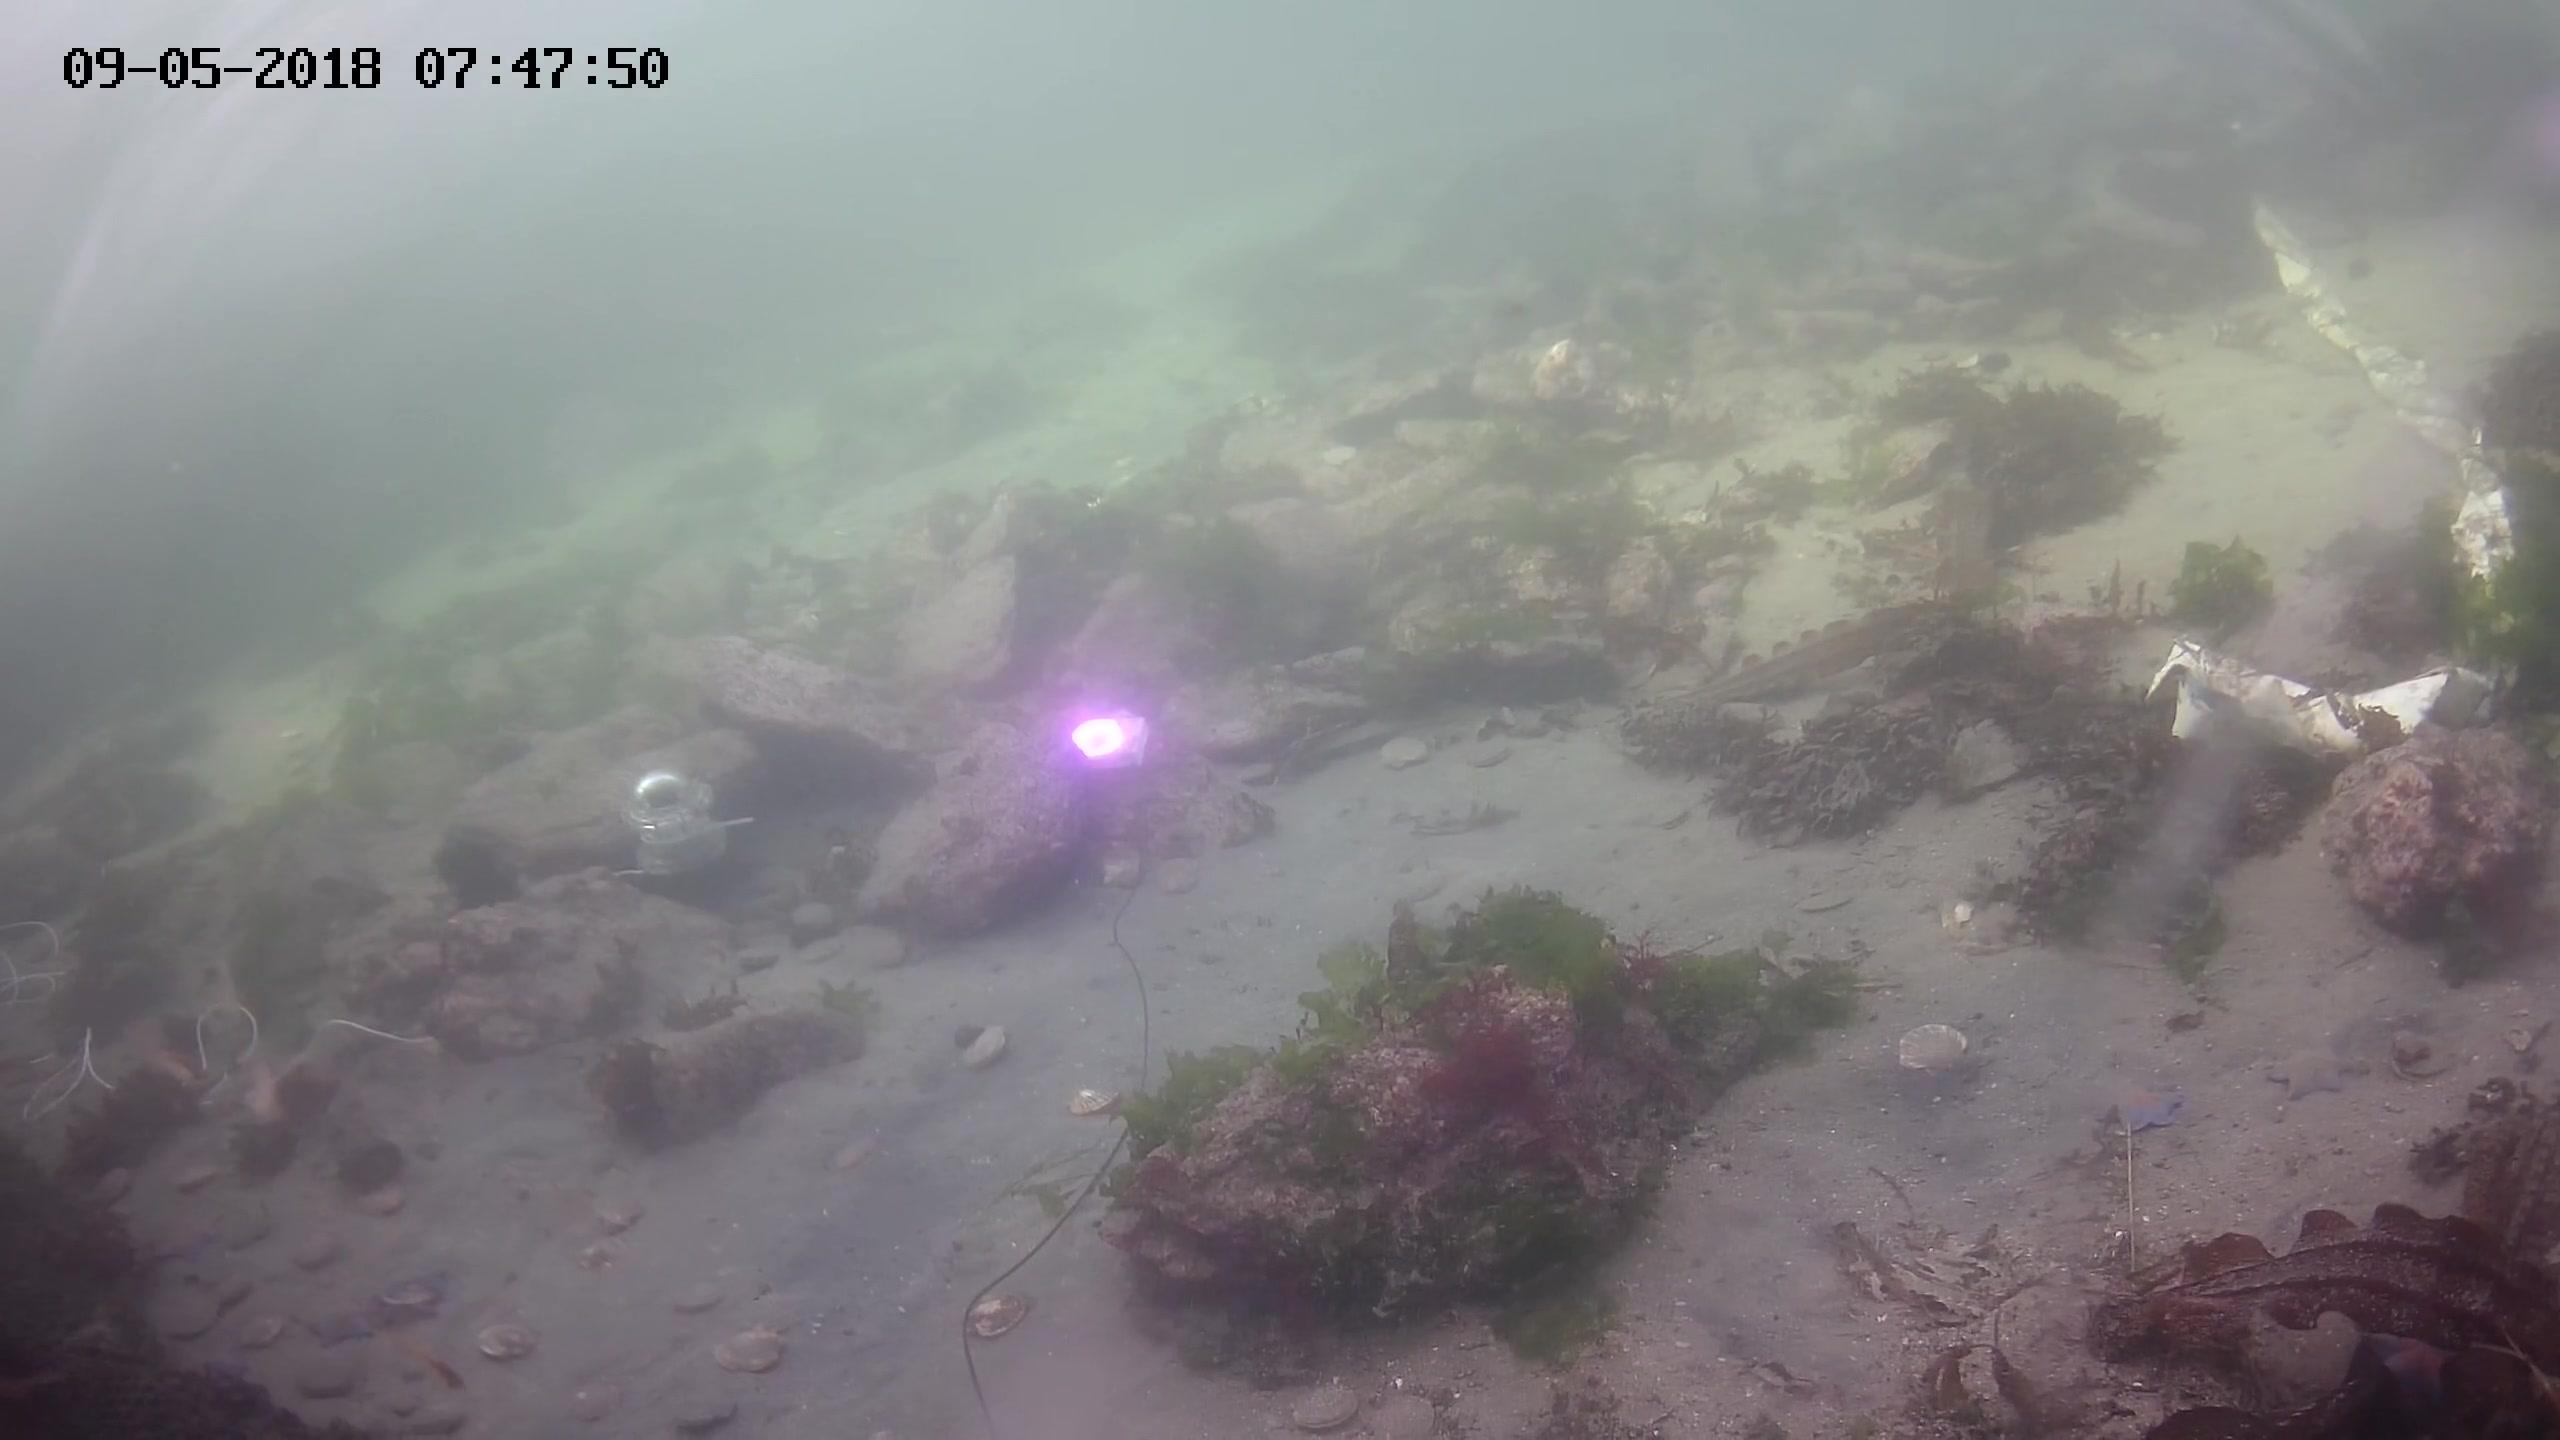scallop: (965, 1292, 1039, 1345), (1892, 1013, 1962, 1067), (1361, 1391, 1451, 1431), (2388, 1025, 2456, 1078), (478, 1320, 549, 1368), (709, 1320, 779, 1368), (1289, 1382, 1356, 1429), (956, 1020, 1016, 1069), (1058, 1081, 1129, 1115), (1380, 733, 1428, 770)
starfish: (2266, 1039, 2361, 1094), (2105, 1088, 2177, 1138), (302, 1294, 373, 1343)
